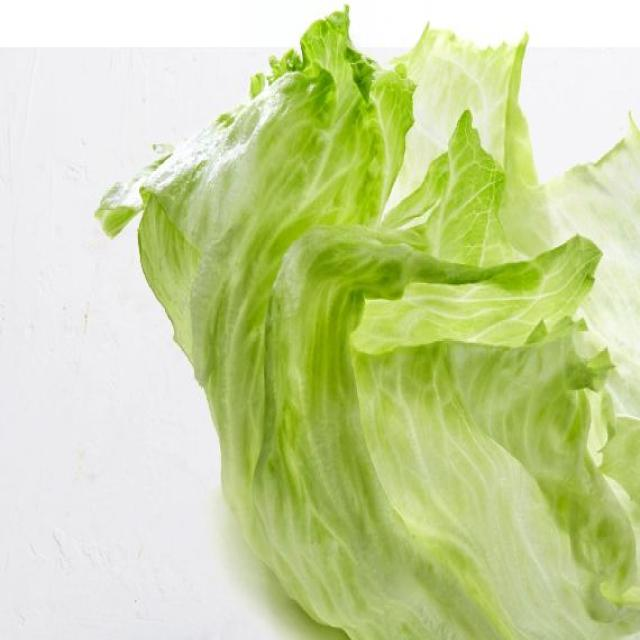lettuce: (98, 12, 639, 639)
